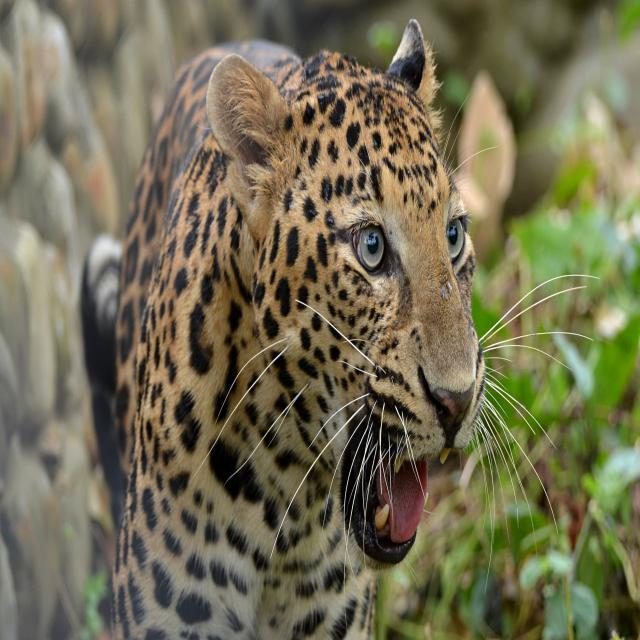Leopard: (84, 43, 482, 640)
